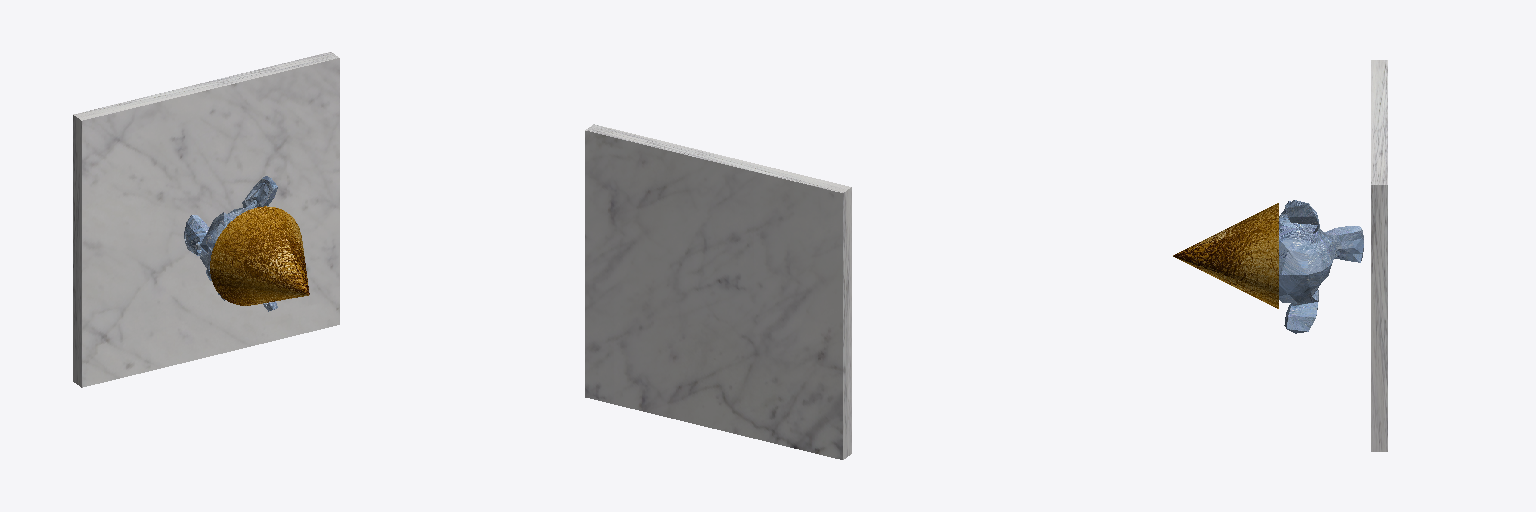
The picture shows the model from 3 angles: view 1: azimuth 30°, elevation 25°; view 2: azimuth 150°, elevation 25°; view 3: azimuth 270°, elevation 25°; orthographic projection.
Parts seen in each view (by area): view 1: Cube, Cone, Suzanne; view 2: Cube; view 3: Cube, Suzanne, Cone.
Boxes of the visible parts, box(x1,y1,x2,y2) form: Cube: box(73, 52, 339, 387); Cone: box(210, 206, 309, 305); Suzanne: box(184, 176, 277, 311); Cube: box(585, 124, 851, 459); Cube: box(1371, 60, 1387, 451); Suzanne: box(1279, 200, 1363, 333); Cone: box(1173, 203, 1278, 308).
Bounding box in the file's own units: 5.56 × 5.5 × 4.02.
Materials: 3 (3 with a texture image).